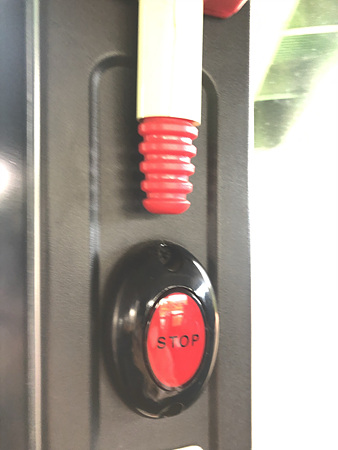bell: (105, 242, 220, 418)
